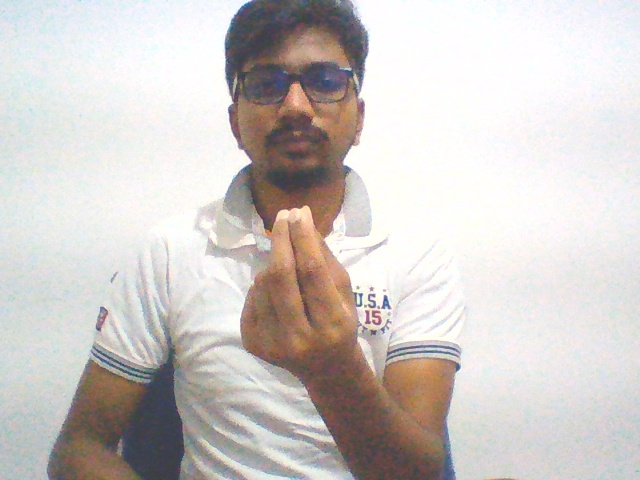dog: (230, 198, 372, 390)
